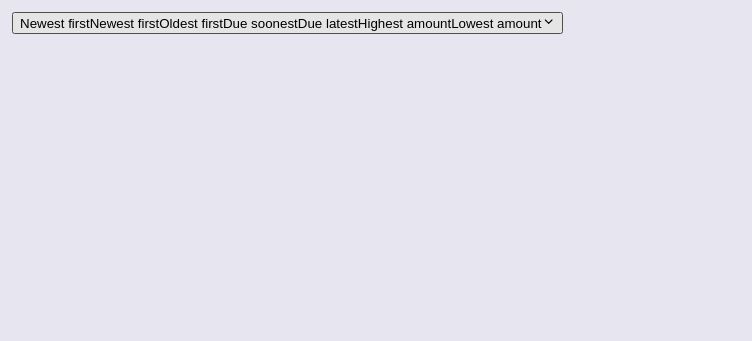
keeps a hidden form input
Later steps or results of the test are not shown.
What coordinates should you click on to do the following:
click the dropdown named "Sort"
I would click on:
 (287, 23)
Its box is 12,12 -> 563,34.
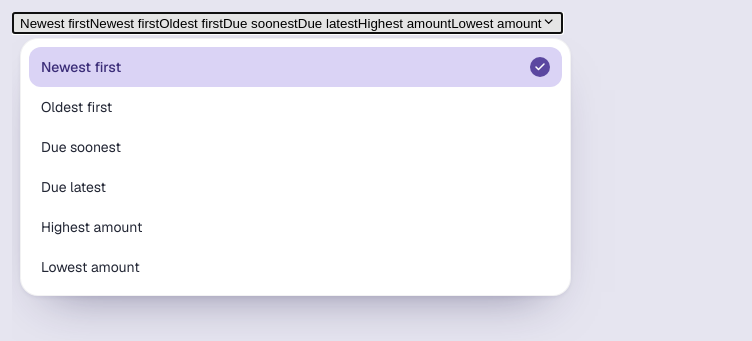
What coordinates should you click on to do the following:
click the option "Oldest first"
I would click on:
 (77, 107)
Its box is 41,98 -> 112,116.
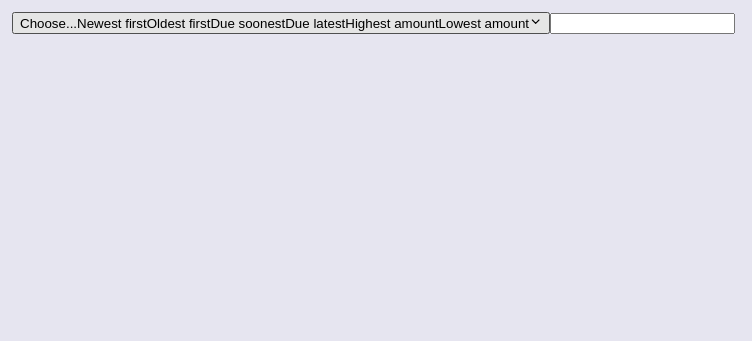
expect the dropdown named "Sort" shows "Choose...": met
What coordinates should you click on to do the following:
click the dropdown named "Sort"
I would click on:
 (281, 23)
Its box is 12,12 -> 550,34.
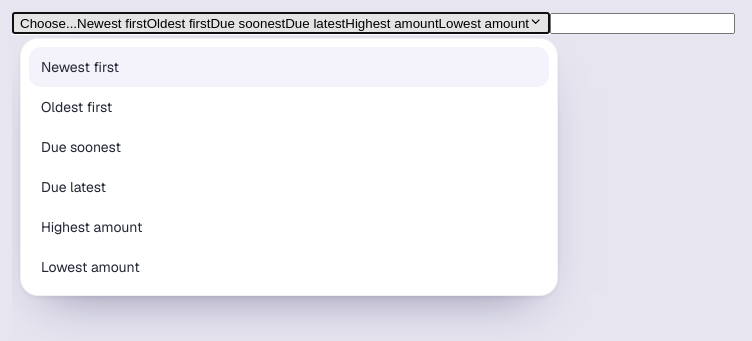
What coordinates should you click on to do the following:
click the option "Newest first"
I would click on:
 (80, 67)
Its box is 29,47 -> 549,87.
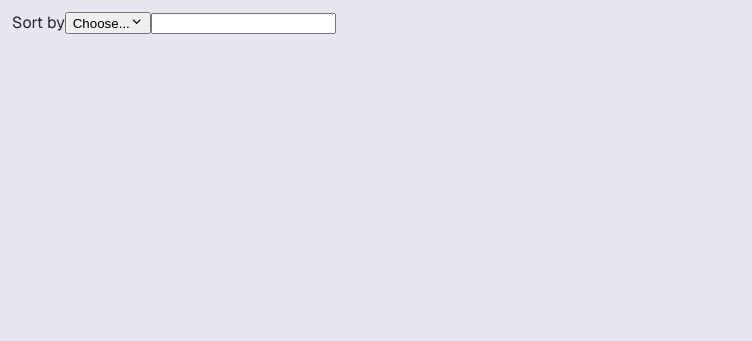
expect the dropdown labelled "Choose..." does not have attribute aria-invalid: met, box 65,12 -> 151,34
